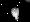person: (11, 7, 22, 22)
